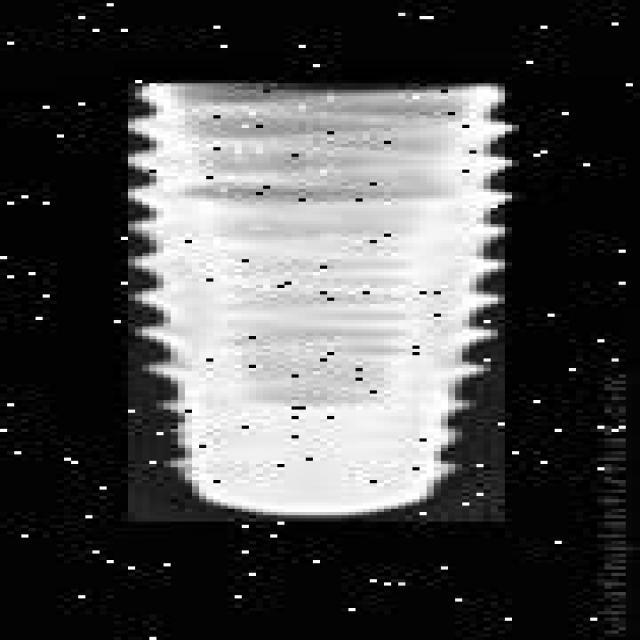Titan Implant Implant: (125, 83, 505, 523)
